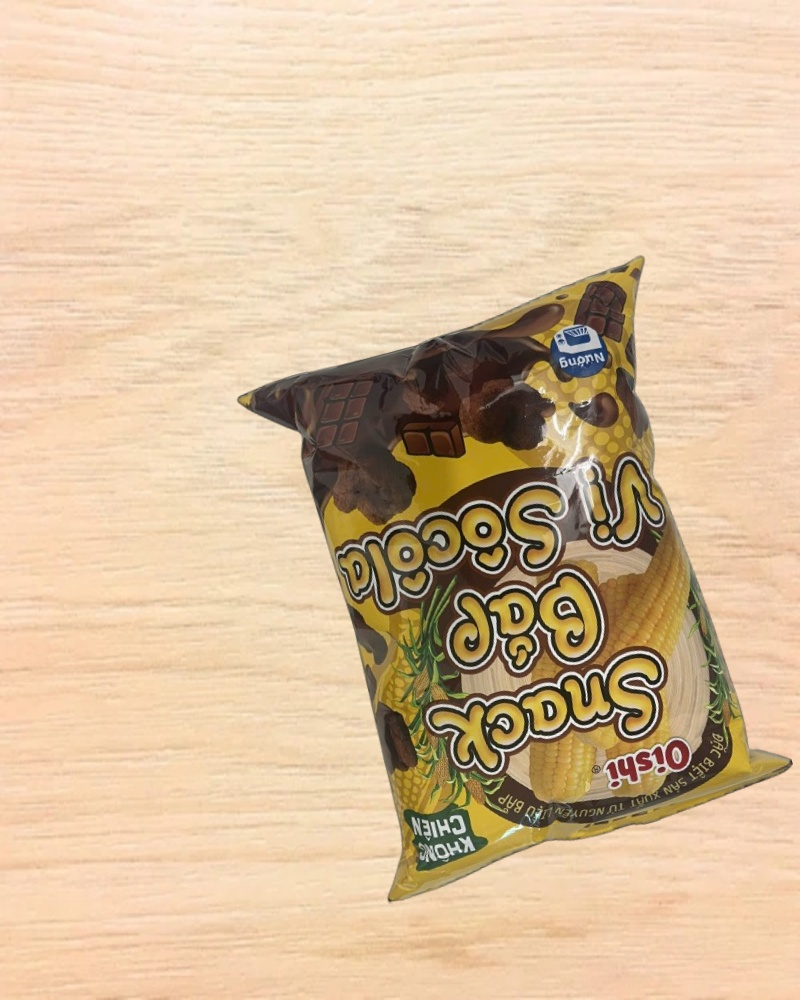Snack socola: (231, 255, 800, 906)
